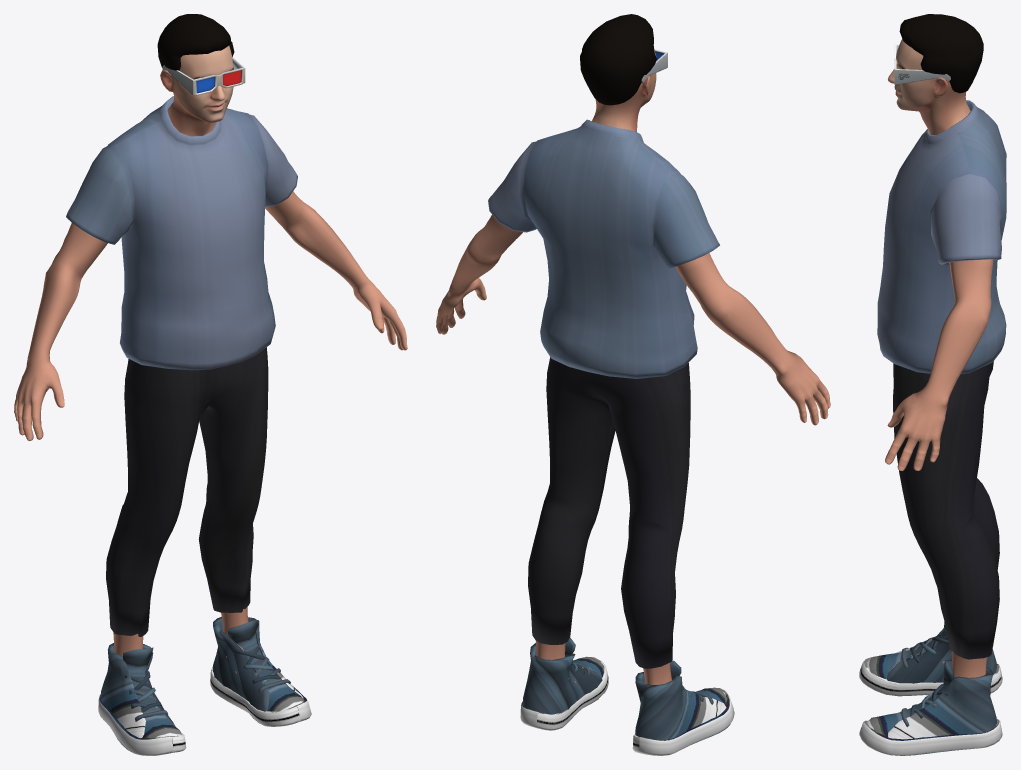
File: developer.fbx
3 renders of one model, left to right at view 1: azimuth 30°, elevation 25°; view 2: azimuth 150°, elevation 25°; view 3: azimuth 270°, elevation 25°, orthographic.
Parts seen in each view (by area): view 1: Wolf3D_Outfit_Top, Wolf3D_Outfit_Bottom, Wolf3D_Body, Wolf3D_Outfit_Footwear, Wolf3D_Head, Wolf3D_Hair, Wolf3D_Glasses; view 2: Wolf3D_Outfit_Top, Wolf3D_Outfit_Bottom, Wolf3D_Body, Wolf3D_Outfit_Footwear, Wolf3D_Hair, Wolf3D_Head; view 3: Wolf3D_Outfit_Top, Wolf3D_Outfit_Bottom, Wolf3D_Outfit_Footwear, Wolf3D_Body, Wolf3D_Hair, Wolf3D_Head, Wolf3D_Glasses.
Part boxes in pixels (<box>): Wolf3D_Outfit_Top: <box>66,96,297,370</box>; Wolf3D_Outfit_Bottom: <box>106,347,268,636</box>; Wolf3D_Body: <box>14,191,407,673</box>; Wolf3D_Outfit_Footwear: <box>98,617,311,755</box>; Wolf3D_Head: <box>160,45,233,136</box>; Wolf3D_Hair: <box>157,14,234,70</box>; Wolf3D_Glasses: <box>162,57,245,95</box>; Wolf3D_Outfit_Top: <box>488,119,719,378</box>; Wolf3D_Outfit_Bottom: <box>528,357,690,668</box>; Wolf3D_Body: <box>436,214,830,684</box>; Wolf3D_Outfit_Footwear: <box>520,637,734,755</box>; Wolf3D_Hair: <box>580,14,656,105</box>; Wolf3D_Head: <box>591,48,656,131</box>; Wolf3D_Outfit_Top: <box>877,100,1006,373</box>; Wolf3D_Outfit_Bottom: <box>893,361,999,659</box>; Wolf3D_Outfit_Footwear: <box>859,621,1002,755</box>; Wolf3D_Body: <box>885,259,993,677</box>; Wolf3D_Hair: <box>899,14,983,93</box>; Wolf3D_Head: <box>888,39,970,135</box>; Wolf3D_Glasses: <box>894,44,950,84</box>.
Bounding box in the file's own units: 1.06 × 1.87 × 0.3565.
9 materials, 9 textured.
